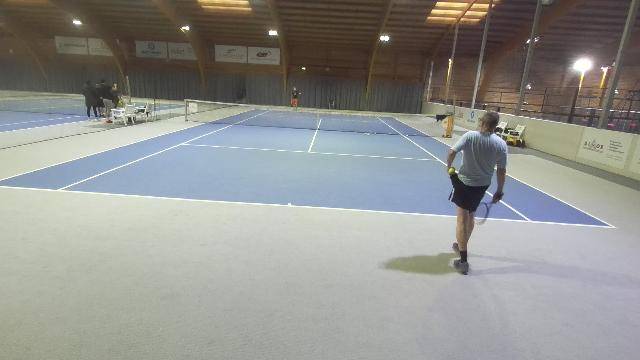tennisball: (448, 167, 454, 175), (364, 132, 368, 136), (374, 132, 378, 136), (388, 132, 392, 134), (406, 133, 408, 137), (299, 92, 301, 94), (414, 133, 416, 135), (444, 138, 446, 140), (367, 133, 369, 135)
